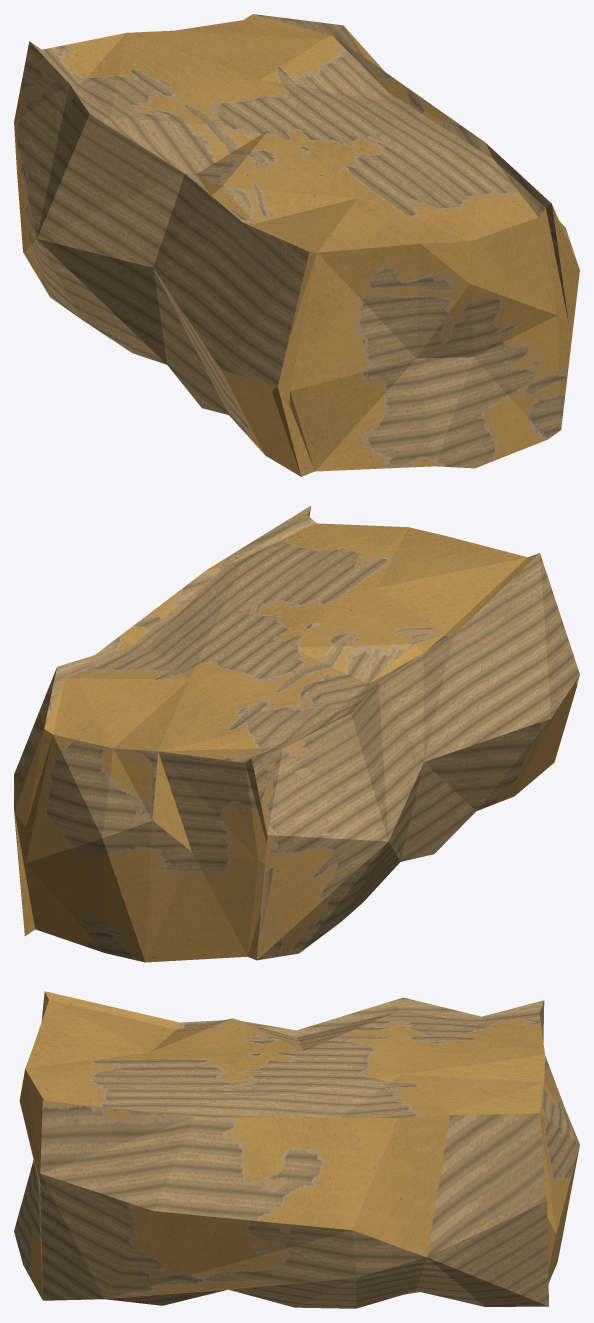
3 views of the same model, one above another, from view 1: azimuth 30°, elevation 25°; view 2: azimuth 150°, elevation 25°; view 3: azimuth 270°, elevation 25° (orthographic). The views are drawn at different scales.
Visible parts, largest first — view 1: BOX3; view 2: BOX3; view 3: BOX3.
Part boxes in pixels (bbox=[...]): BOX3: bbox=[14, 14, 579, 476]; BOX3: bbox=[14, 506, 579, 962]; BOX3: bbox=[14, 991, 579, 1308].
Bounding box in the file's own units: 2.96 × 1.8 × 4.36.
1 material, 1 textured.
